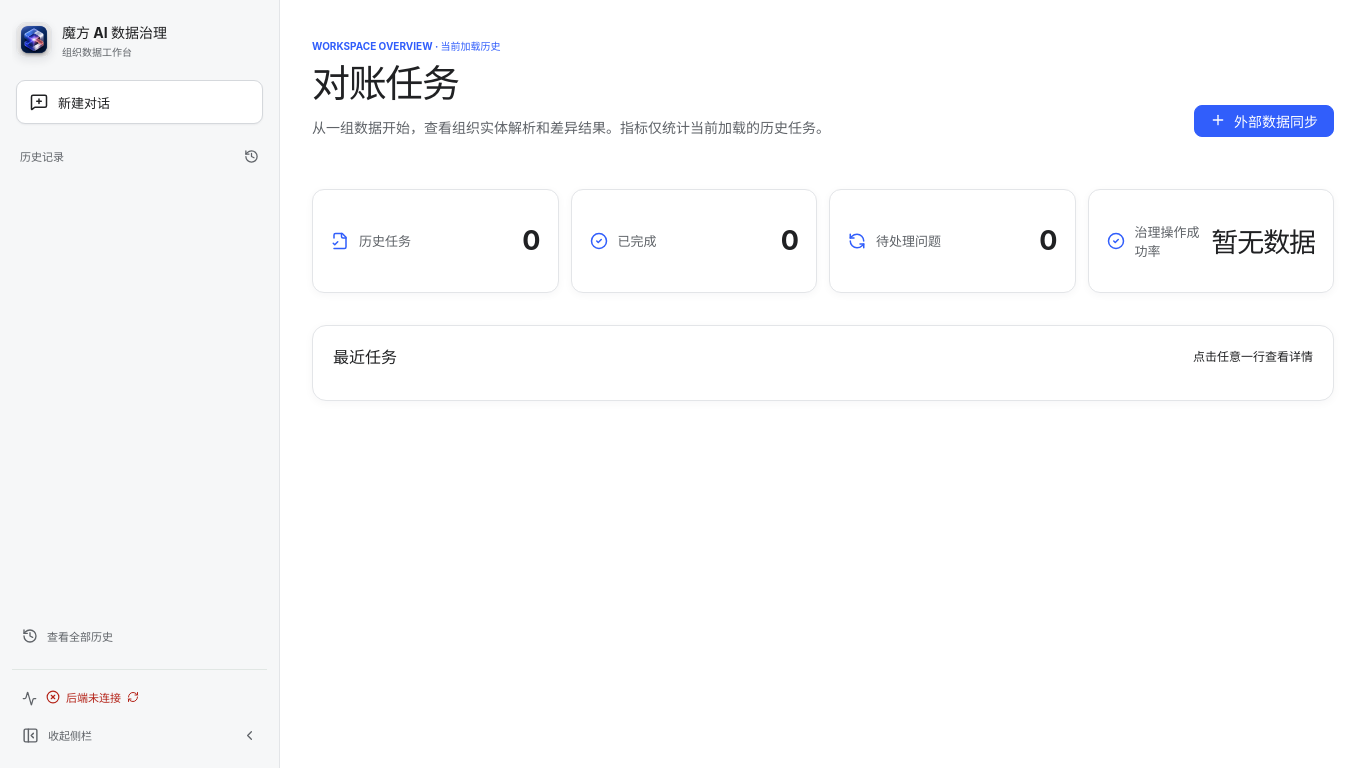
application shell › shows the persistent workspace and opens a fresh reconciliation
Expected: the button "后端未连接" is shown, [46, 689, 139, 705]
Expected: the navigation bar named "对账工作区" is shown, [12, 14, 267, 754]
Click the link "魔方 AI 数据治理 组织数据工作台" at (92,40), box [16, 22, 167, 58]
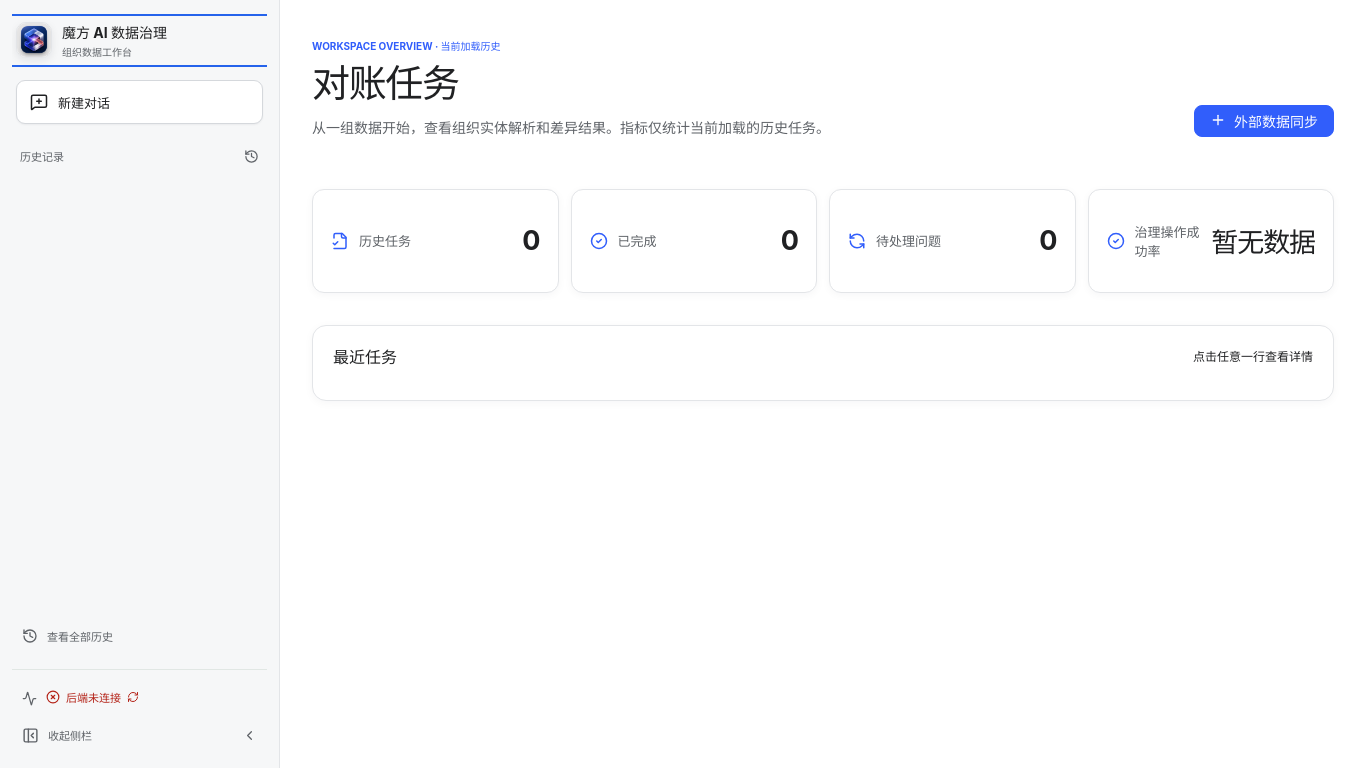
Click the button "外部数据同步" at (1264,120), box [1194, 104, 1334, 136]
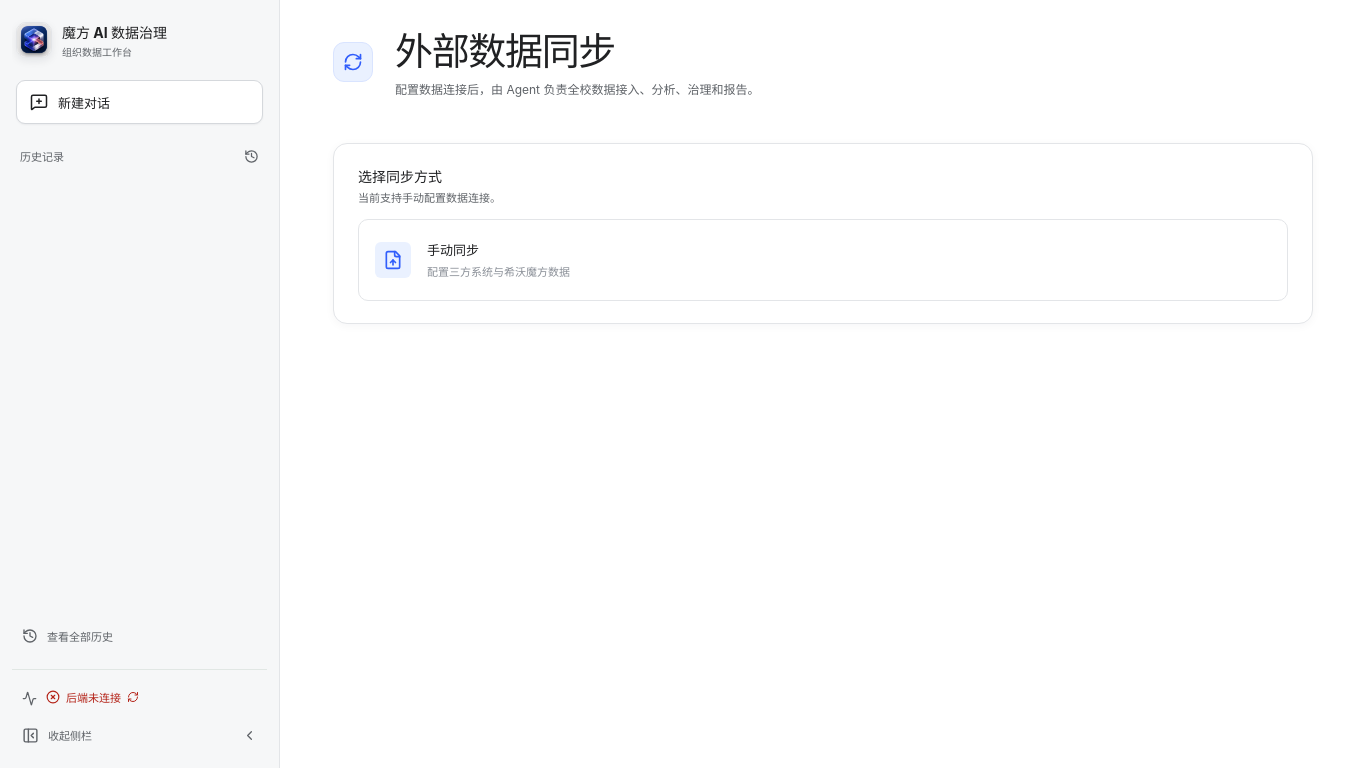
Result: the heading "外部数据同步" is shown at [395, 28, 615, 74]
